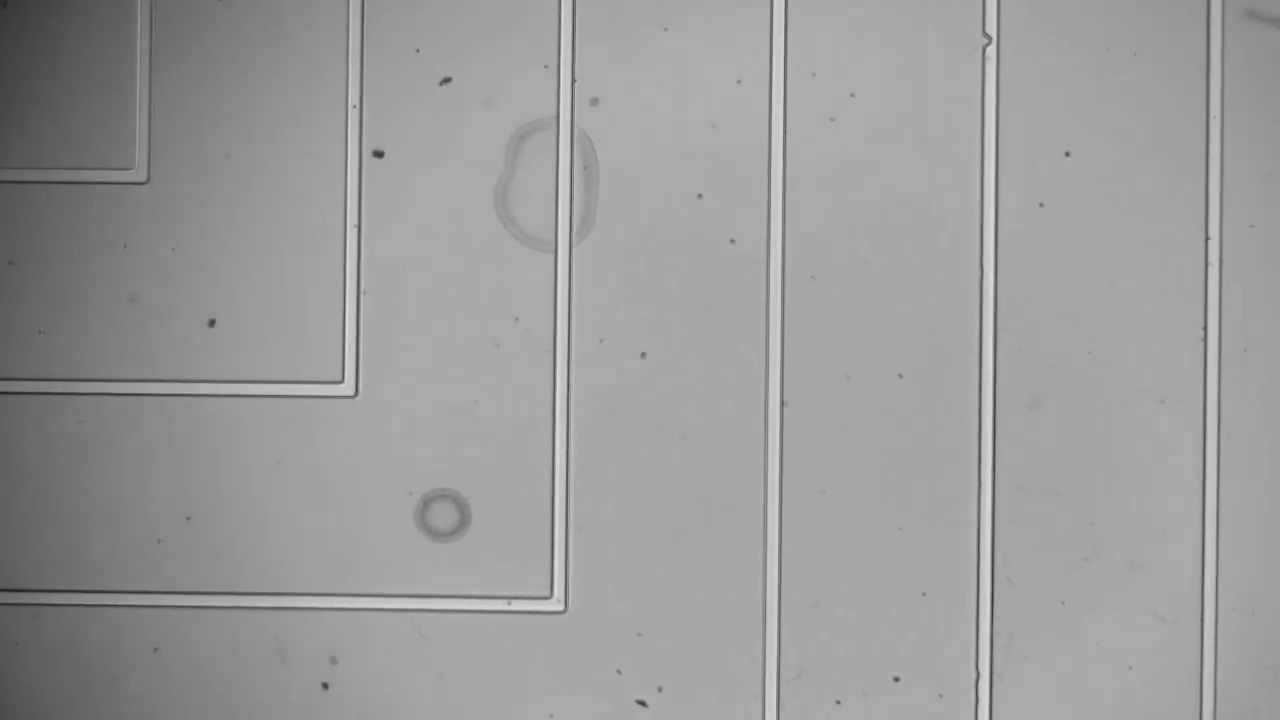edge_bite: (969, 25, 1007, 56)
